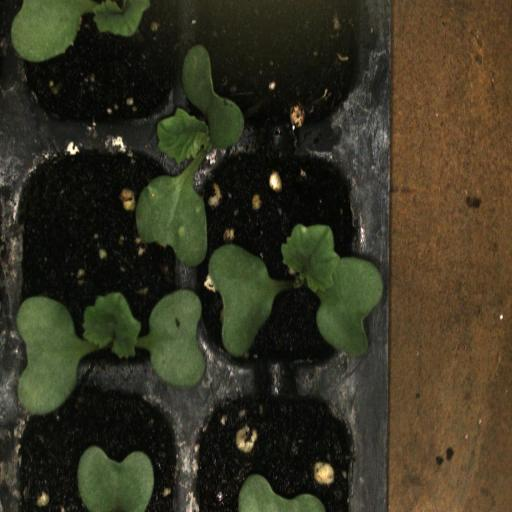Folha: (281, 224, 385, 361), (77, 445, 154, 512)
Germinacao: (176, 138, 373, 385), (4, 139, 178, 388), (183, 0, 375, 162)
